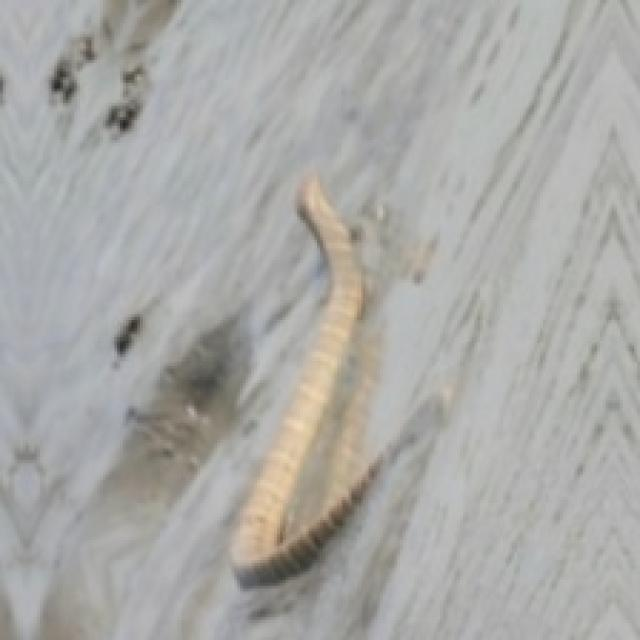king cobra: (231, 171, 406, 586)
